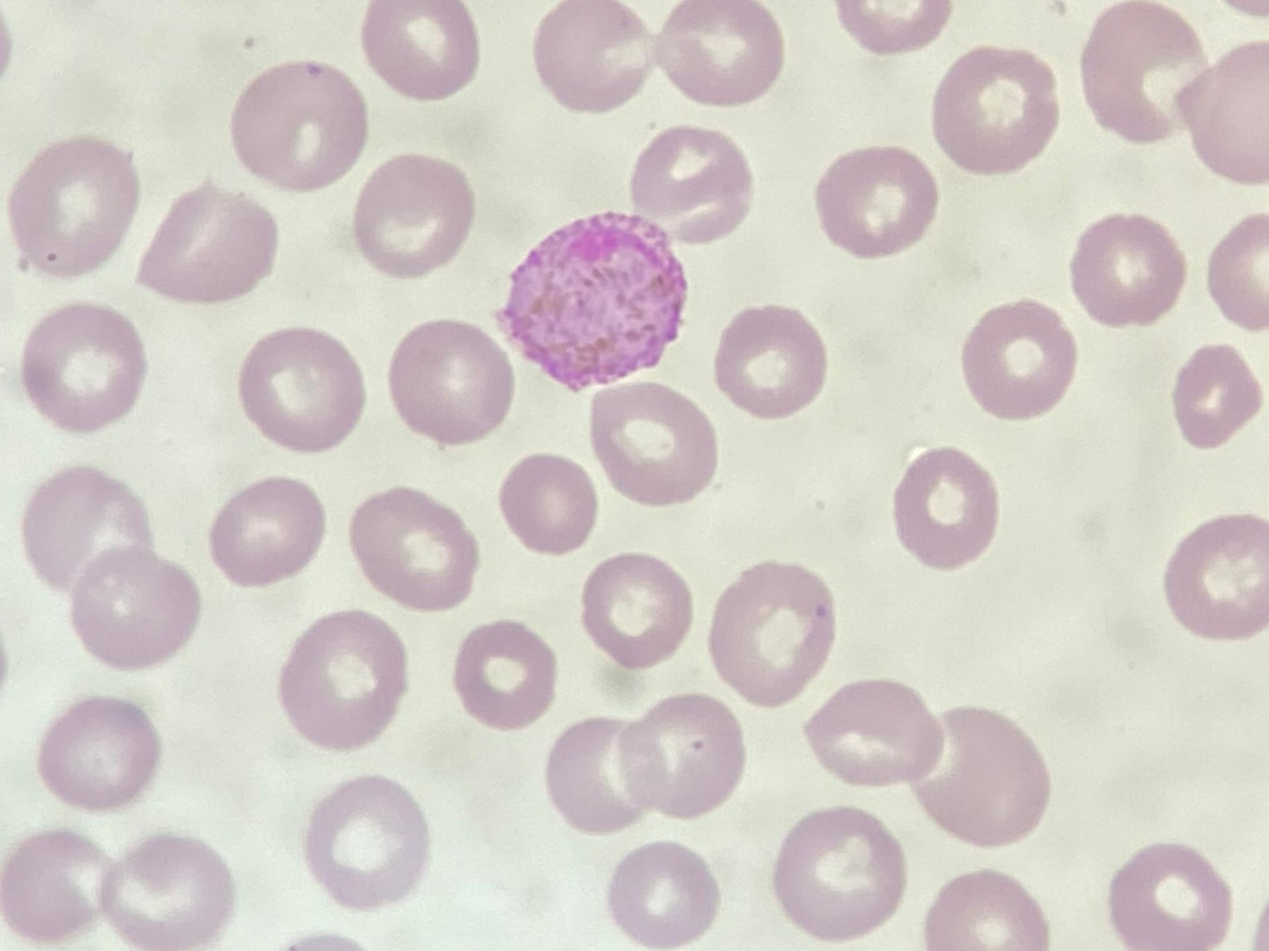Infected: (580, 560, 765, 734)
Uninfected: (220, 104, 354, 241), (432, 245, 558, 388), (1128, 673, 1256, 812), (862, 202, 989, 338), (362, 12, 496, 140), (63, 810, 188, 947), (838, 41, 966, 172), (989, 647, 1125, 770), (902, 762, 1034, 888), (1118, 517, 1244, 646), (549, 444, 677, 568), (209, 777, 333, 905), (1071, 280, 1200, 403), (524, 133, 654, 254), (905, 498, 1030, 623), (753, 506, 879, 629), (790, 340, 917, 462), (1124, 361, 1247, 486), (794, 675, 915, 796), (1037, 1, 1163, 114), (327, 163, 461, 269), (516, 707, 636, 825), (191, 531, 307, 650), (330, 691, 451, 804), (33, 0, 160, 107), (484, 845, 609, 951), (267, 381, 375, 503), (1110, 141, 1229, 251), (616, 839, 732, 950), (83, 625, 197, 737), (0, 309, 103, 432), (441, 531, 554, 643), (576, 282, 686, 396), (943, 363, 1058, 472), (3, 768, 89, 909), (1162, 4, 1268, 118), (622, 116, 722, 232), (549, 3, 660, 106), (790, 851, 905, 949), (712, 220, 815, 328), (7, 500, 98, 609), (218, 0, 341, 80), (672, 395, 769, 496)
